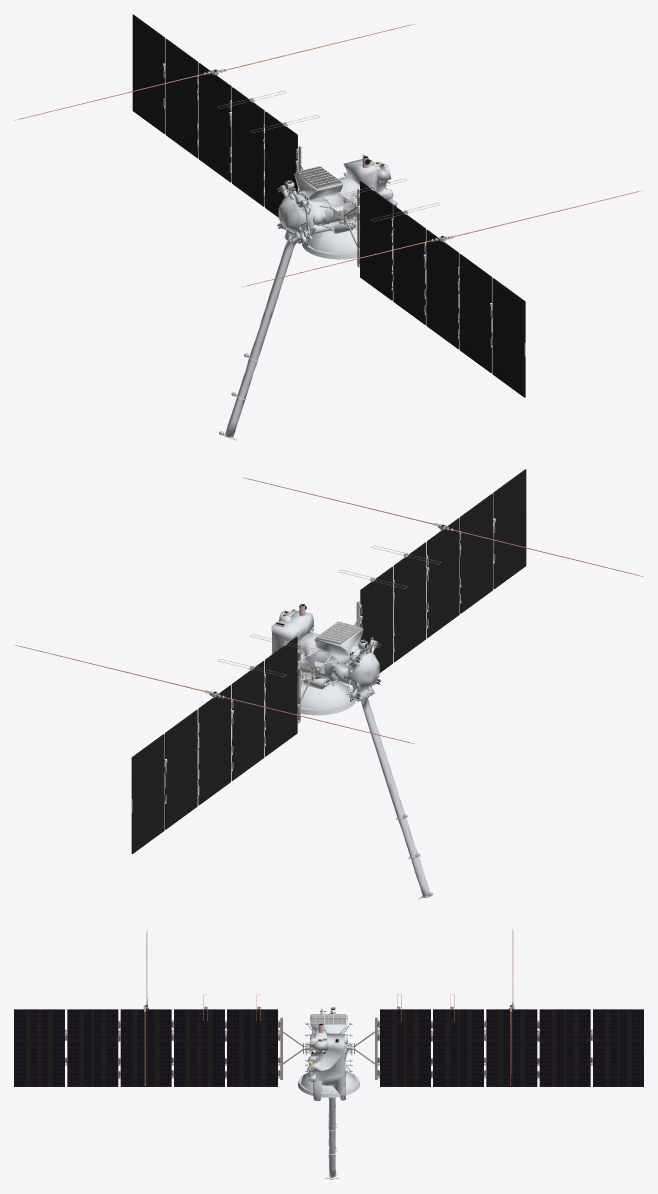
File: europa-clipper.glb
The picture shows the model from 3 angles, top to bottom: view 1: azimuth 30°, elevation 25°; view 2: azimuth 150°, elevation 25°; view 3: azimuth 270°, elevation 25°; orthographic projection. The views are drawn at different scales.
Parts seen in each view (by area): view 1: solar_cells_chassis, blanket_hideable, blanket_soft, reason, bus_exposed, blanket_hard; view 2: solar_cells_chassis, blanket_soft, blanket_hideable, reason, bus_exposed, blanket_hard; view 3: solar_cells, solar_cells_chassis, blanket_hideable, reason, blanket_soft, blanket_hard, bus_exposed.
Part boxes in pixels (x1=…): solar_cells_chassis: x1=132, y1=14, x2=525, y2=397; blanket_hideable: x1=225, y1=159, x2=397, y2=437; blanket_soft: x1=278, y1=173, x2=359, y2=254; reason: x1=14, y1=23, x2=643, y2=287; bus_exposed: x1=277, y1=166, x2=390, y2=245; blanket_hard: x1=302, y1=172, x2=357, y2=259; solar_cells_chassis: x1=131, y1=469, x2=526, y2=853; blanket_soft: x1=297, y1=628, x2=379, y2=710; blanket_hideable: x1=271, y1=609, x2=429, y2=896; reason: x1=14, y1=477, x2=643, y2=743; bus_exposed: x1=302, y1=621, x2=380, y2=701; blanket_hard: x1=297, y1=628, x2=355, y2=715; solar_cells: x1=14, y1=1010, x2=643, y2=1086; solar_cells_chassis: x1=14, y1=1009, x2=643, y2=1086; blanket_hideable: x1=307, y1=1008, x2=346, y2=1178; reason: x1=143, y1=929, x2=514, y2=1085; blanket_soft: x1=300, y1=1012, x2=357, y2=1093; blanket_hard: x1=297, y1=1022, x2=360, y2=1097; bus_exposed: x1=305, y1=1008, x2=352, y2=1100.
Size of the model in its own units: 18 by 11.25 by 30.5.
Materials: 16 (13 with a texture image).
